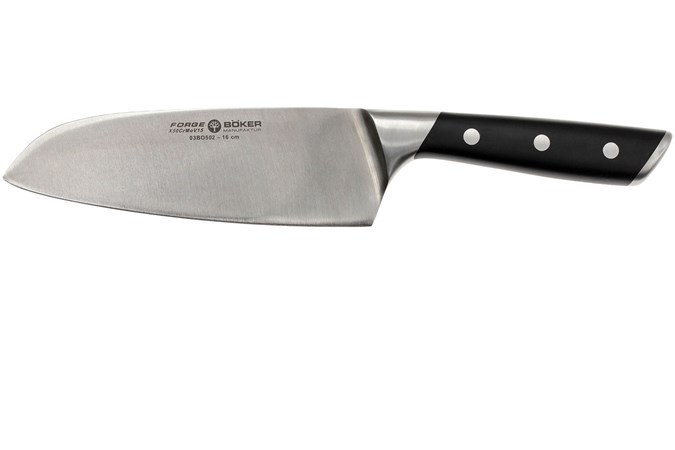knife: (3, 107, 672, 226)
